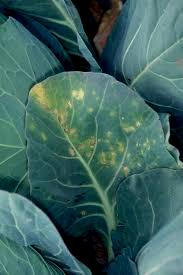Bok-Choy-Diseased: (18, 67, 183, 255)
